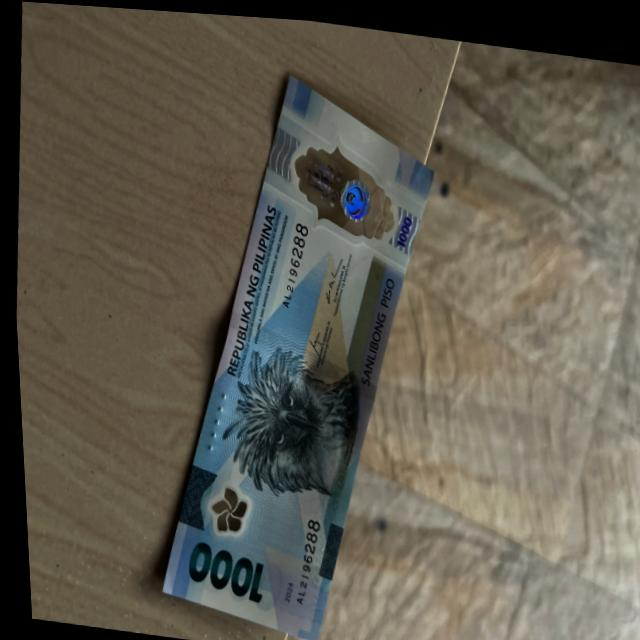clear_window: (283, 132, 402, 245)
eagle: (226, 341, 362, 494)
sampaguita: (206, 482, 245, 533)
